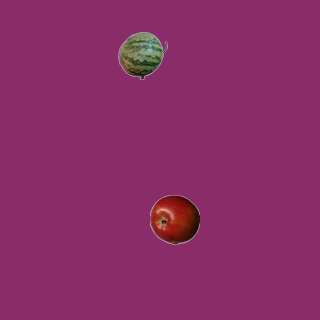Apple Braeburn: (149, 194, 199, 244)
Watermelon: (117, 30, 167, 80)
